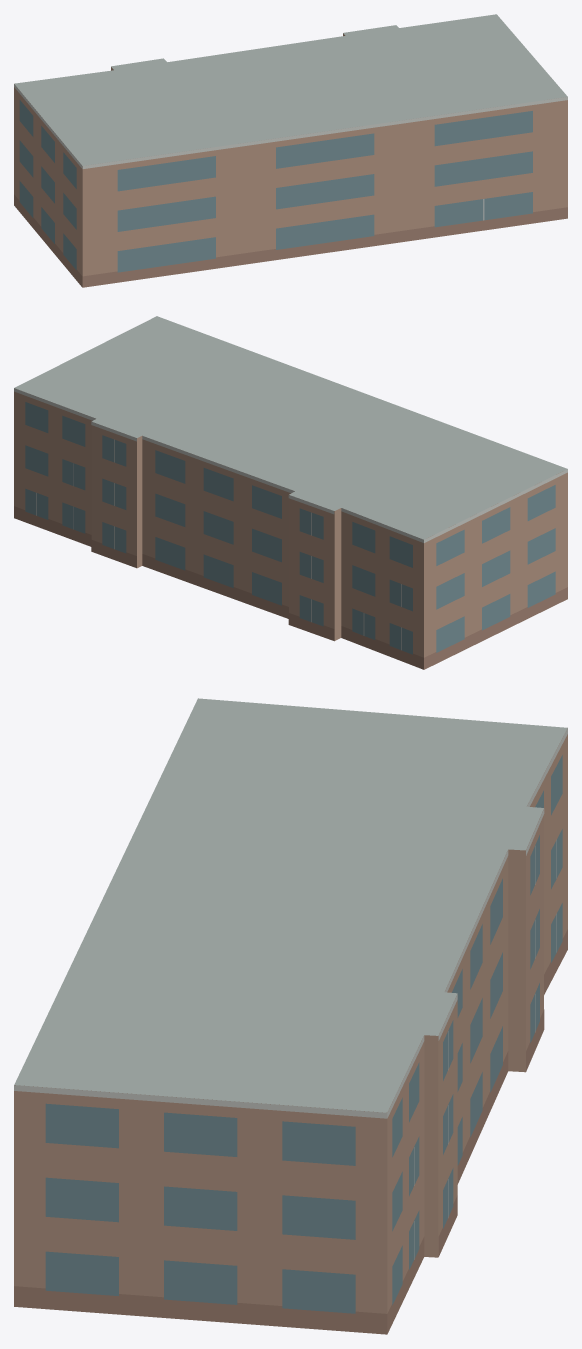
The model's file is survey-upis-32674701.glb.
The picture shows the model from 3 angles, top to bottom: view 1: azimuth 30°, elevation 25°; view 2: azimuth 150°, elevation 25°; view 3: azimuth 270°, elevation 25°; orthographic projection. The views are drawn at different scales.
Parts seen in each view (by area): view 1: survey-upis-32674701.tmp; view 2: survey-upis-32674701.tmp; view 3: survey-upis-32674701.tmp.
Boxes of the visible parts, x1,y1,x2,y2 form: survey-upis-32674701.tmp: (14, 14, 567, 287); survey-upis-32674701.tmp: (14, 316, 567, 669); survey-upis-32674701.tmp: (14, 698, 567, 1334).
Bounding box in the file's own units: 36.68 × 9.15 × 20.72.
